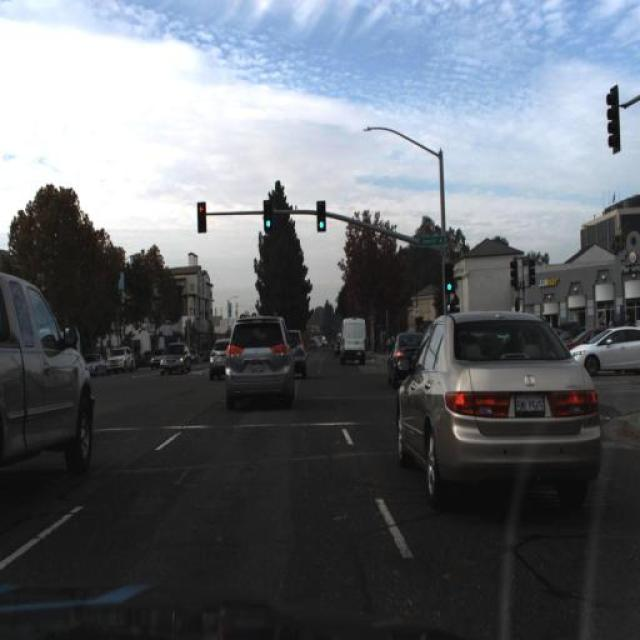car: (394, 300, 605, 501), (0, 276, 98, 500), (219, 307, 296, 415), (384, 323, 430, 401), (568, 322, 638, 373), (287, 323, 311, 392), (336, 316, 369, 364), (155, 338, 190, 377), (206, 336, 229, 385), (106, 346, 132, 376)
trafficLight-Green: (442, 262, 457, 298), (262, 198, 273, 234), (198, 202, 208, 234), (316, 201, 326, 231)
